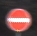No entry: (5, 6, 32, 31)
